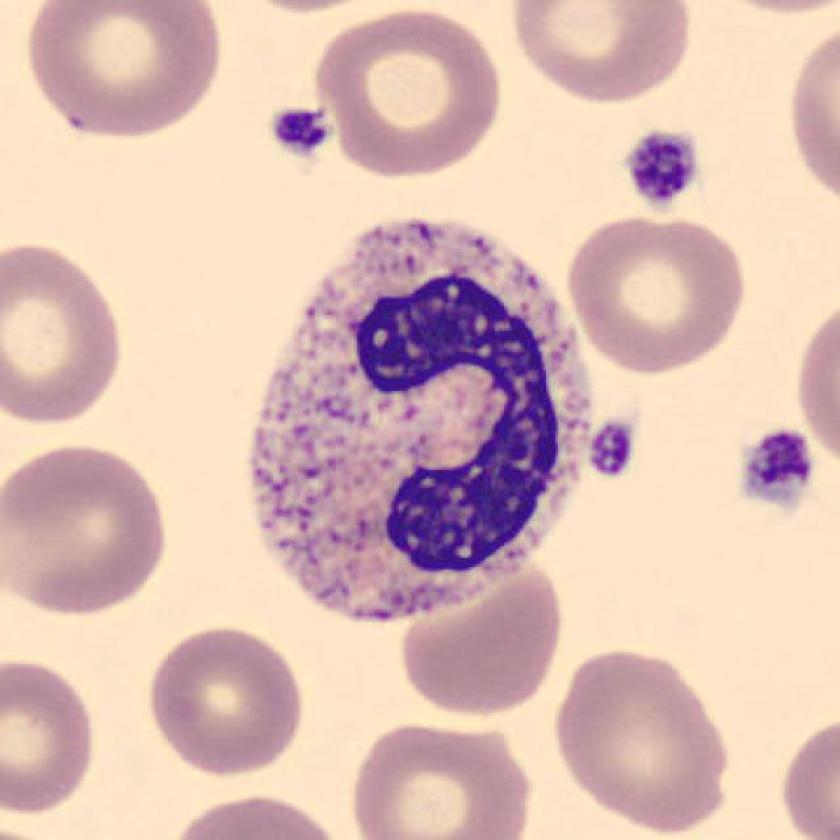neutrophil: (249, 221, 589, 622)
